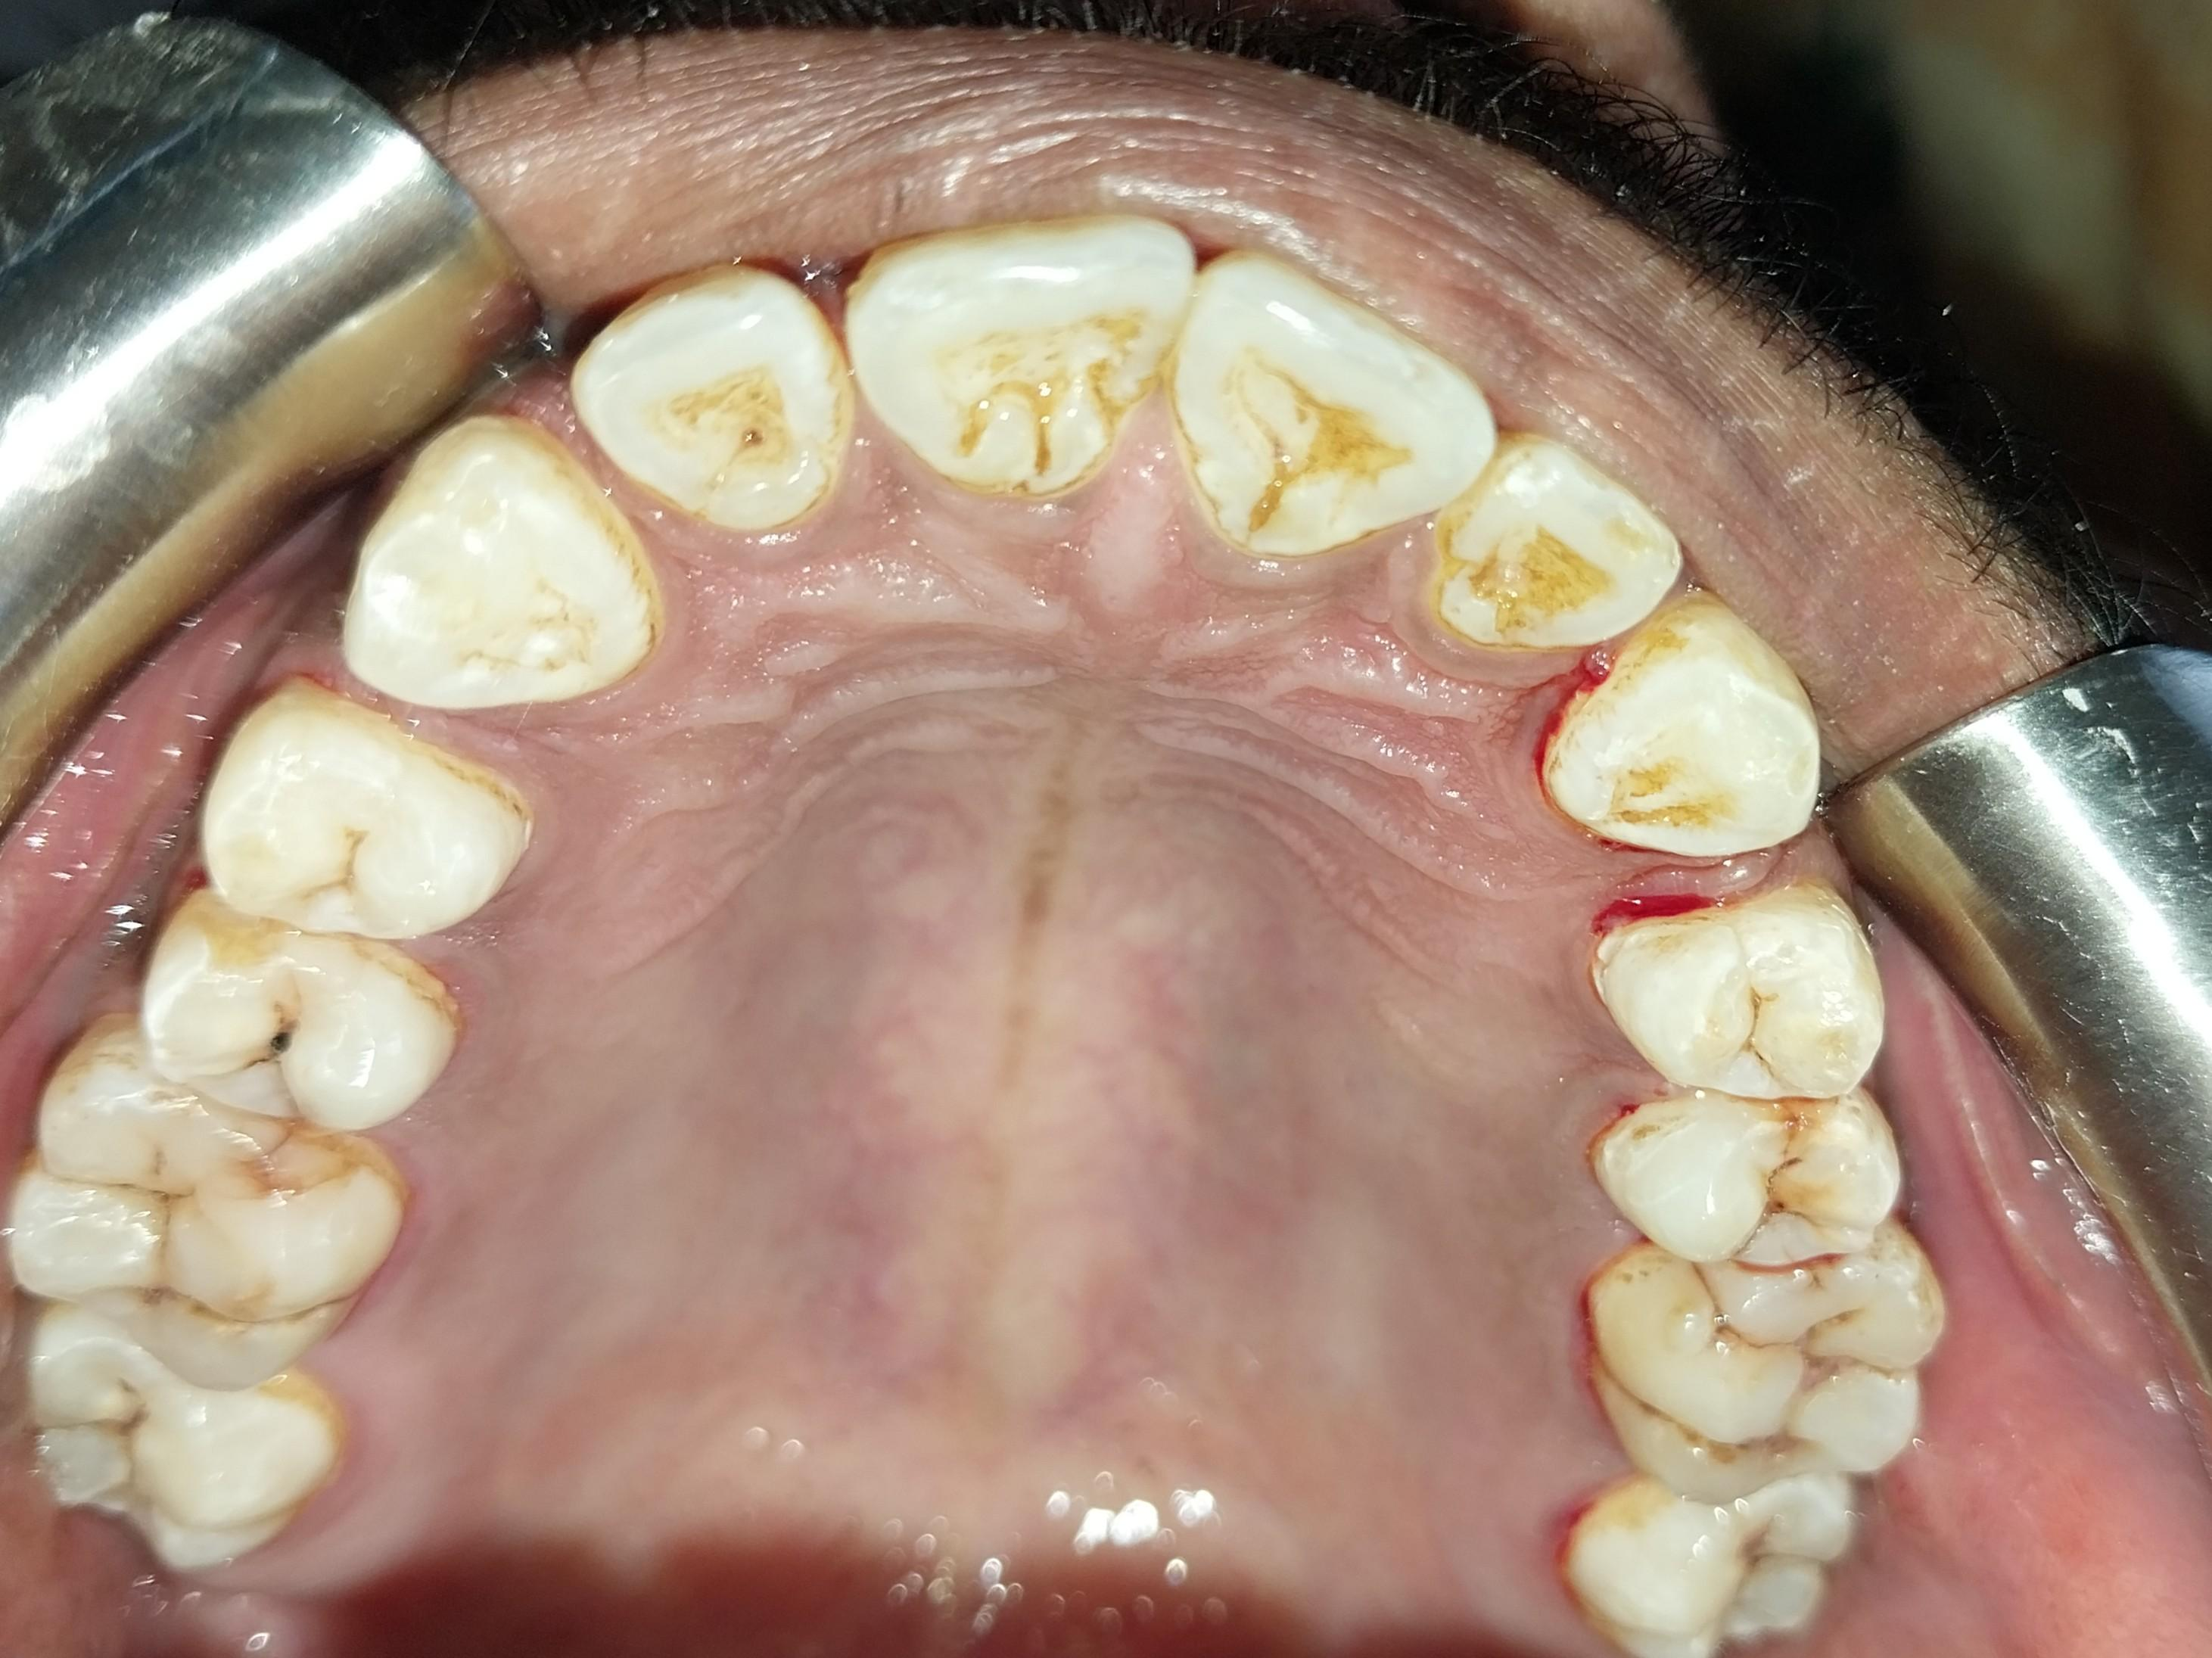D: (119, 893, 450, 1137)
